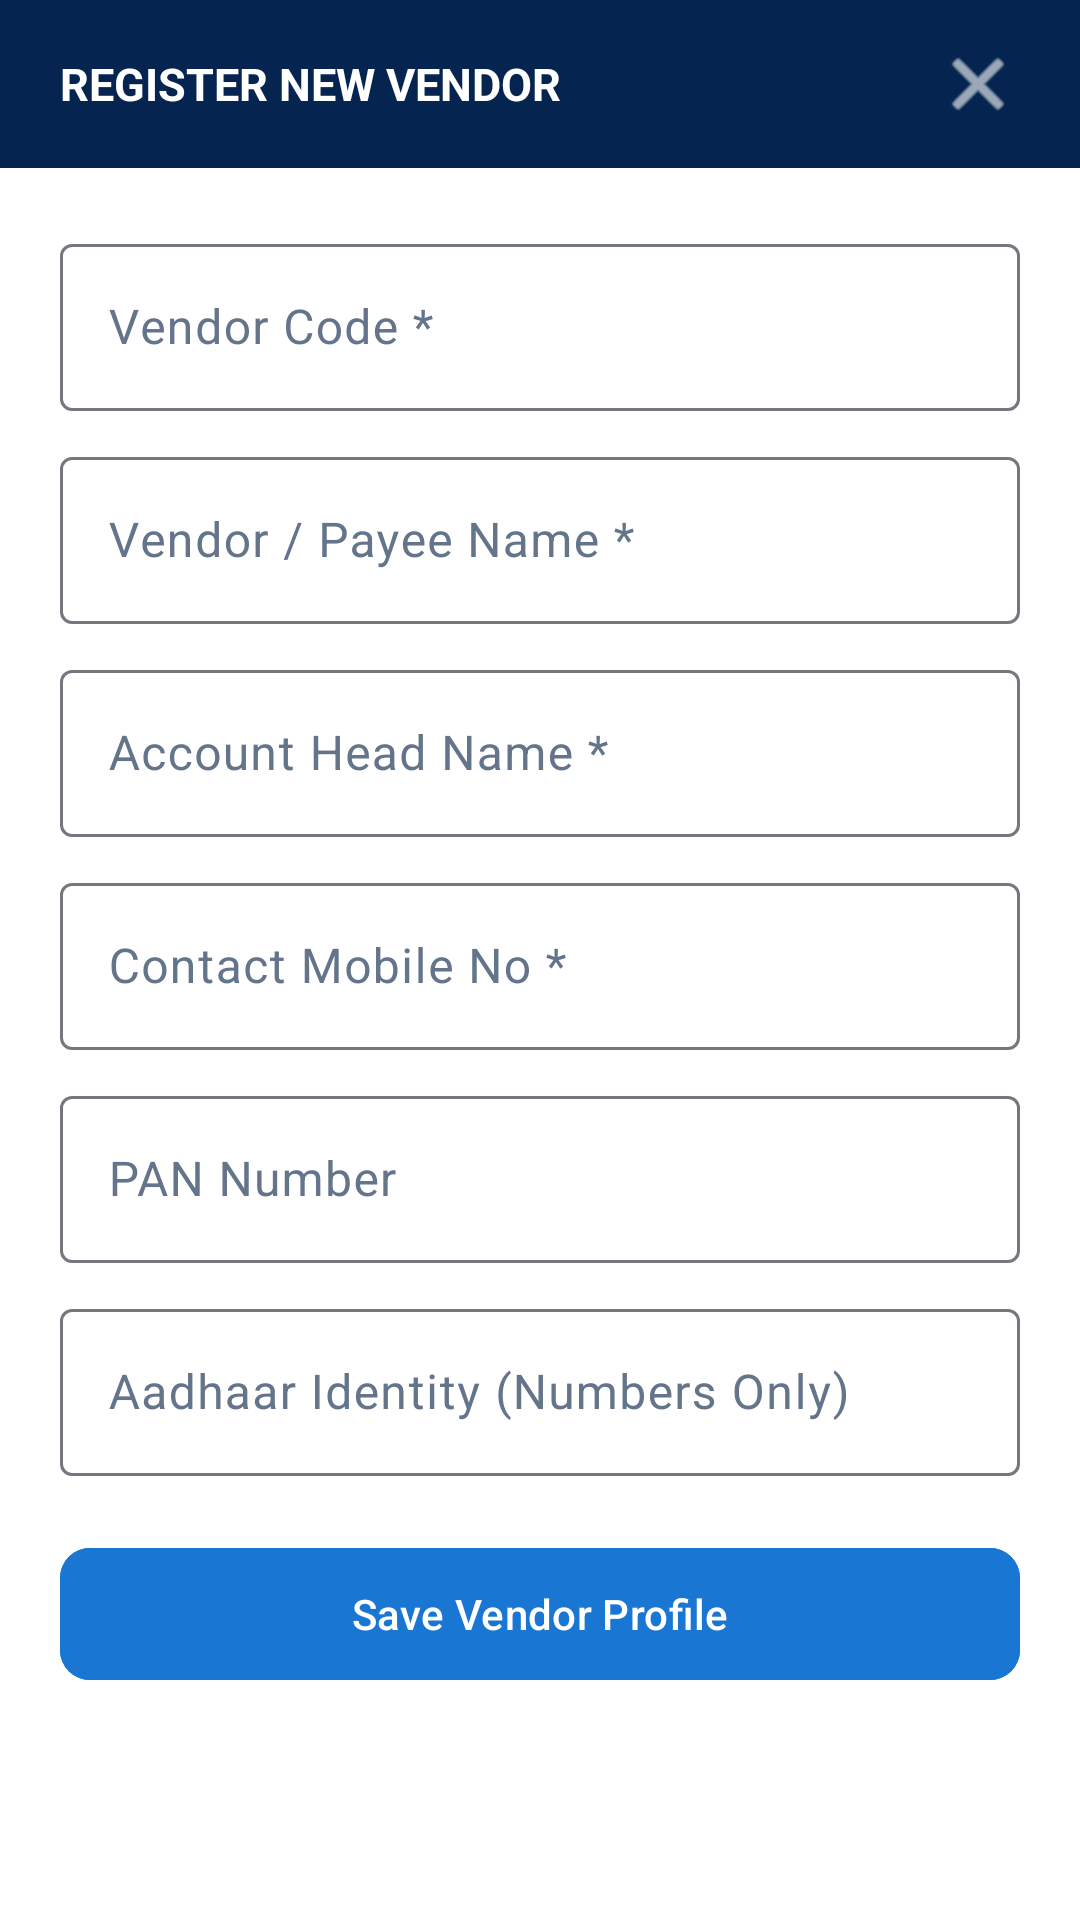

Where icons sit on this 1080×1920 app screen, as (x1, y1, x2, y2):
close clear cancel: (952, 58, 1004, 110)
